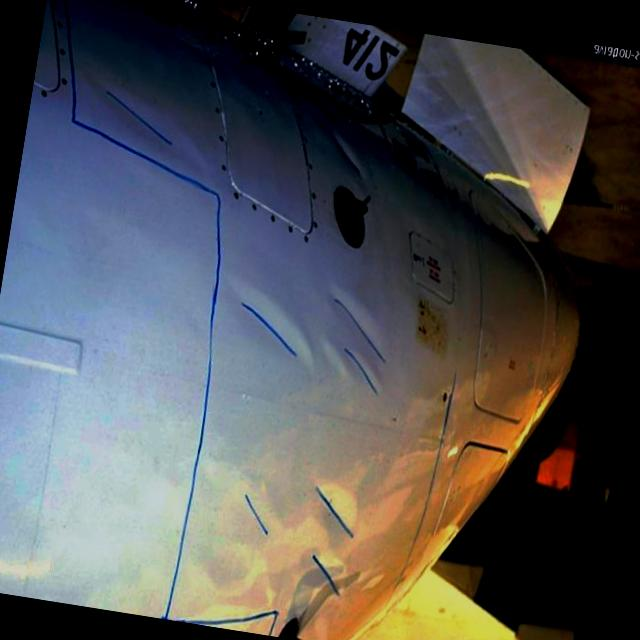dent: (300, 476, 364, 556)
